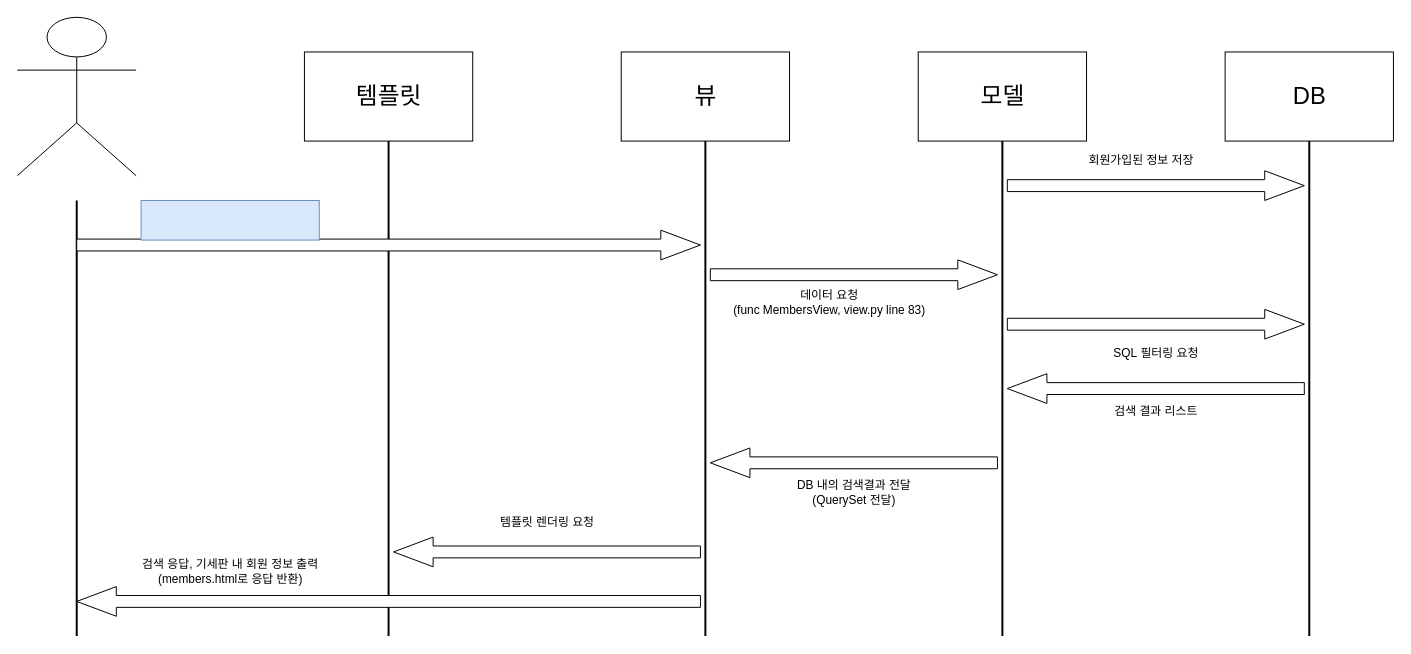
Some shapes in this 1411 by 654 pixel diagram are drawn without their labels. Each missing label, with the box of its shape:
Actor: (16, 16, 136, 176)
회원 검색 시도 (GET/members?search 발생): (140, 199, 319, 240)
